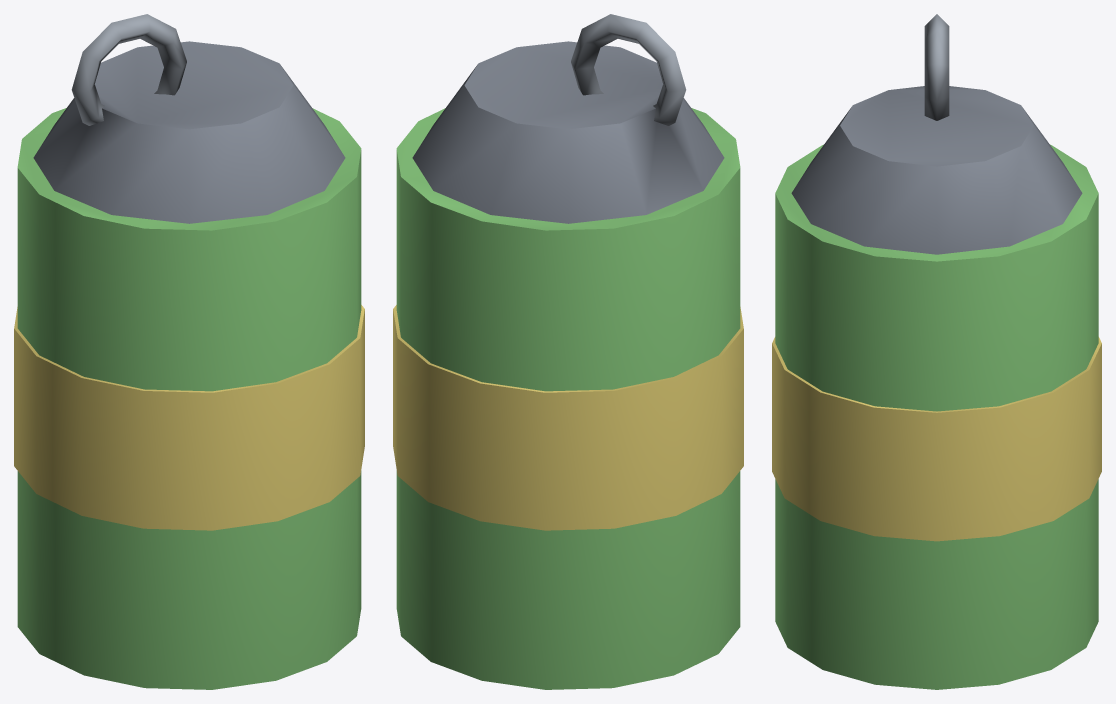
The model's file is GasGrenade.fbx.
3 views of the same model, side by side, from view 1: azimuth 30°, elevation 25°; view 2: azimuth 150°, elevation 25°; view 3: azimuth 270°, elevation 25° (orthographic). The views are drawn at different scales.
Parts seen in each view (by area): view 1: gas_can; view 2: gas_can; view 3: gas_can.
Part boxes in pixels (left/top/right/bottom): gas_can: left=14, top=14, right=364, bottom=689; gas_can: left=393, top=14, right=743, bottom=689; gas_can: left=772, top=14, right=1101, bottom=689.
Bounding box in the file's own units: 0.2652 × 0.5076 × 0.2652.
